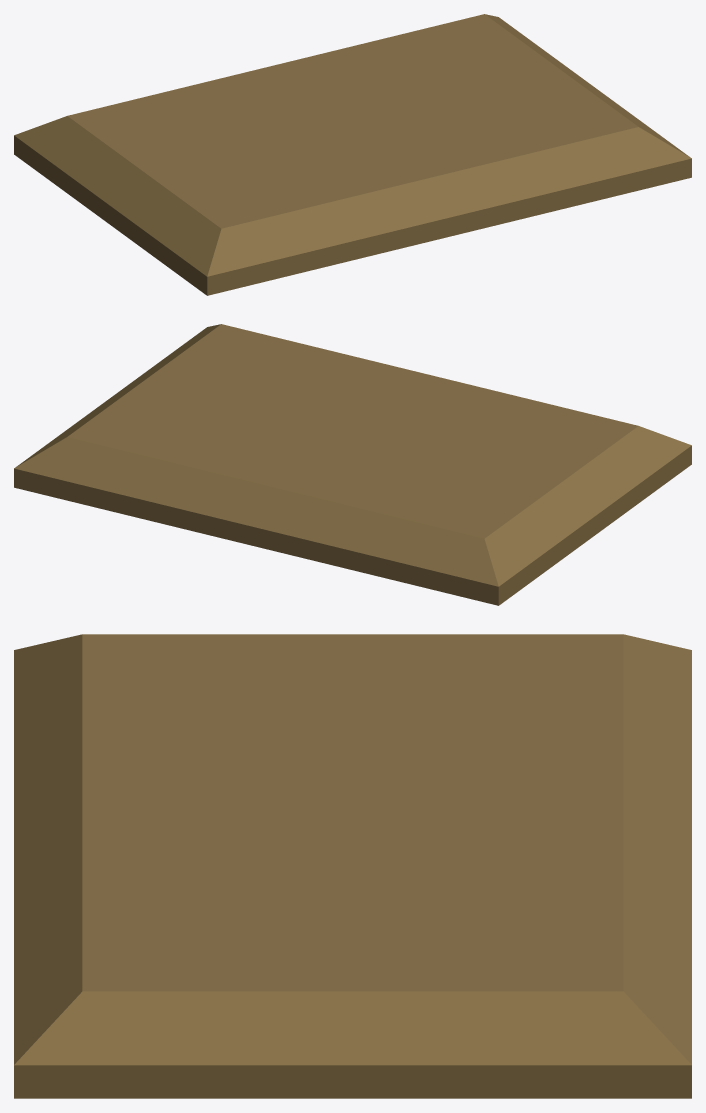
File: Itr_Table4_Top_01.FBX
3 views of the same model, one above another, from view 1: azimuth 30°, elevation 25°; view 2: azimuth 150°, elevation 25°; view 3: azimuth 270°, elevation 25° (orthographic). The views are drawn at different scales.
Parts seen in each view (by area): view 1: Itr_Table4_Top_01; view 2: Itr_Table4_Top_01; view 3: Itr_Table4_Top_01.
Part boxes in pixels (left/top/right/bottom): Itr_Table4_Top_01: left=14, top=14, right=691, bottom=295; Itr_Table4_Top_01: left=14, top=324, right=691, bottom=605; Itr_Table4_Top_01: left=14, top=634, right=691, bottom=1098.
Size of the model in its own units: 58.16 by 5.12 by 40.15.
